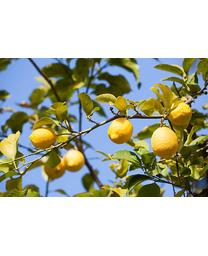lemon: (150, 127, 179, 158), (107, 118, 133, 145), (169, 101, 192, 130)
